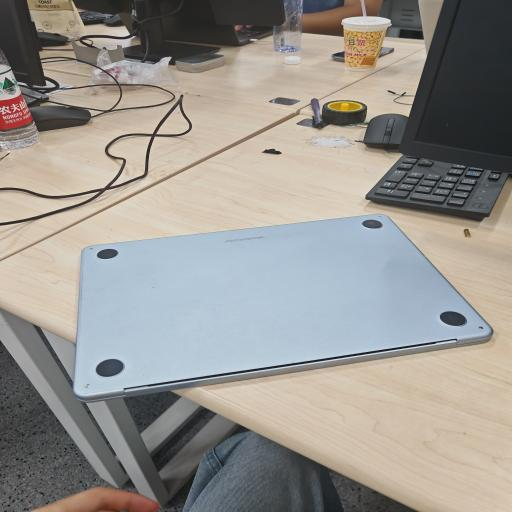laptop: (74, 214, 492, 402)
mouse: (363, 114, 408, 150), (29, 105, 91, 131), (38, 32, 68, 46), (103, 14, 123, 26)
